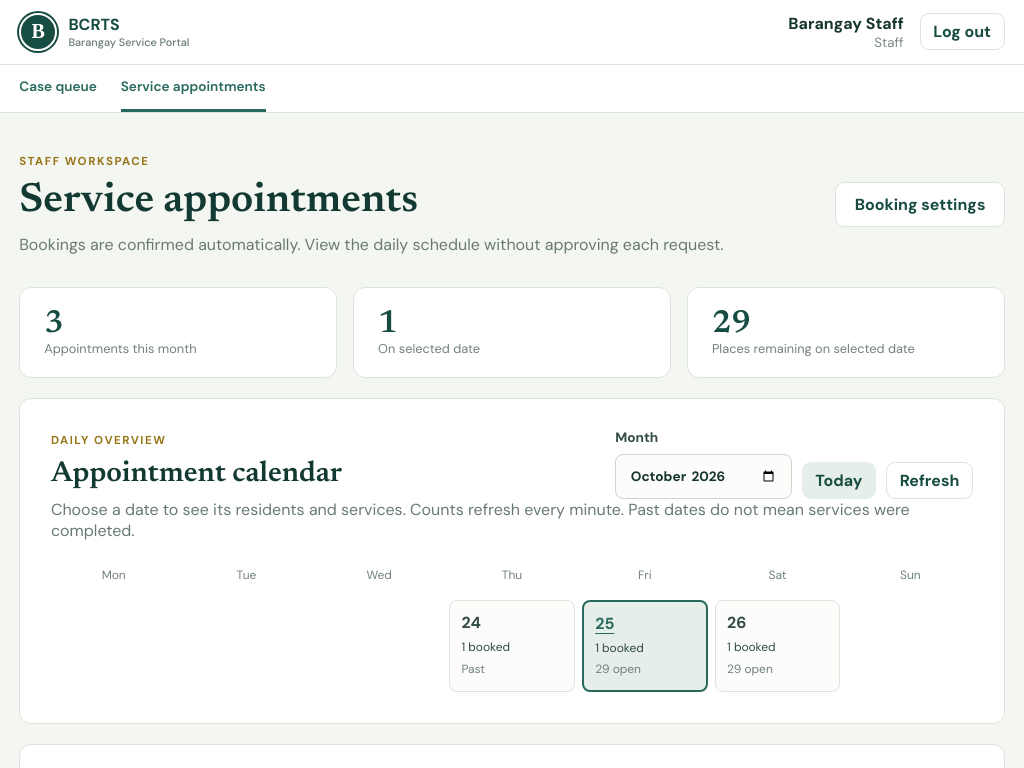
it: automatic appointments › shows daily totals and lets staff inspect appointments by calendar date
The width and height of the screenshot is (1024, 768).
Expected: the text "Resident 3" is not shown
Expected: the text "3" is shown, x1=44 y1=308 x2=64 y2=340
Click the button with aria-label "October 26, 2026: 1 appointments" at (778, 646), box x1=715 y1=600 x2=840 y2=692
(page scrolled)
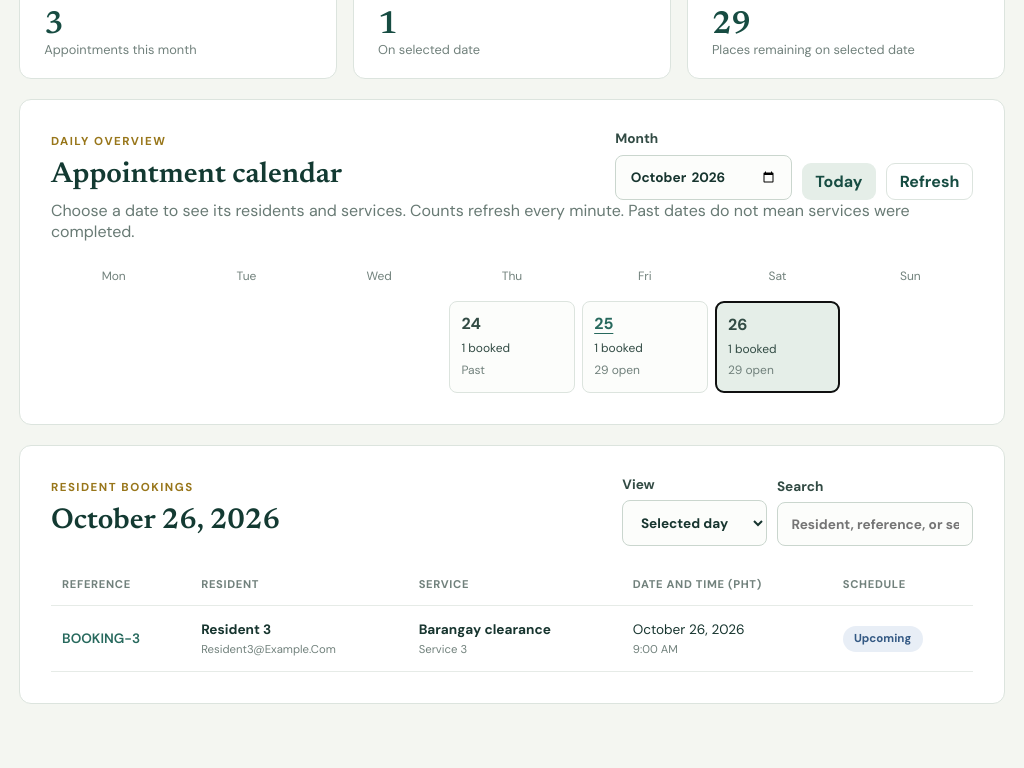
Expected: the text "Resident 3" is shown, x1=201 y1=621 x2=271 y2=638
